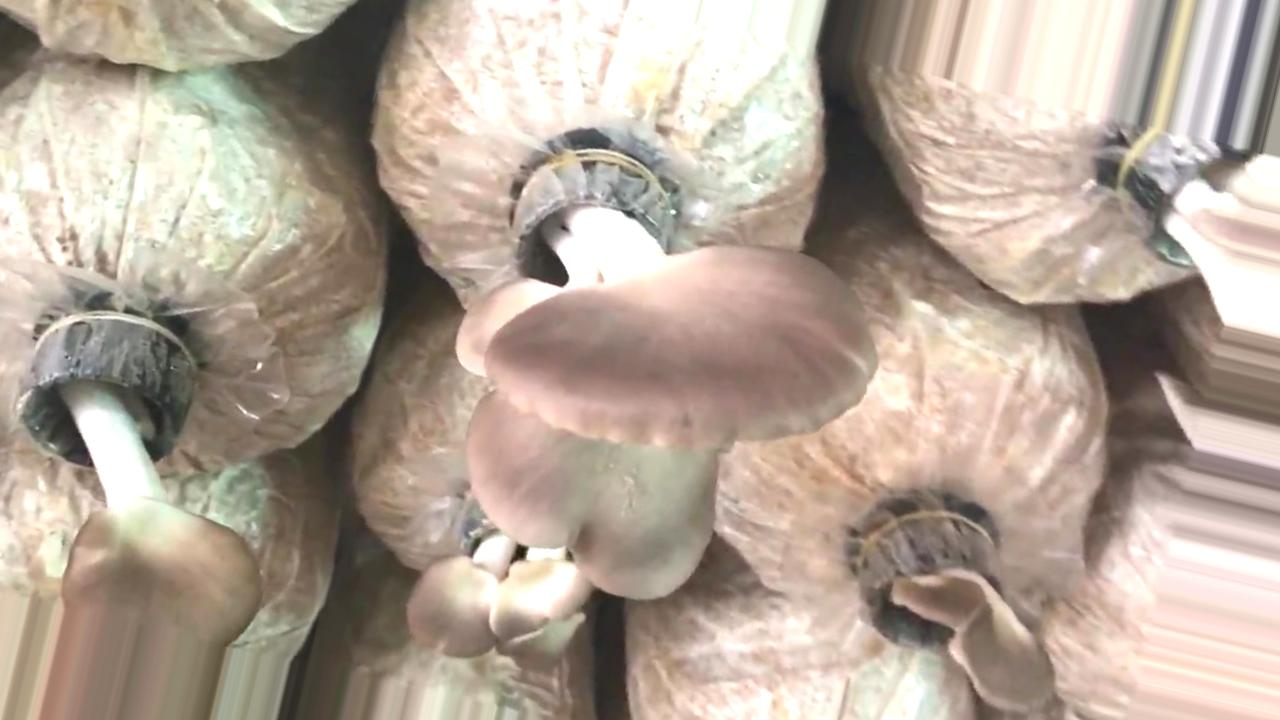nam: (455, 157, 874, 598), (3, 312, 255, 720), (864, 519, 1056, 713), (408, 502, 592, 669), (1129, 123, 1280, 326)
